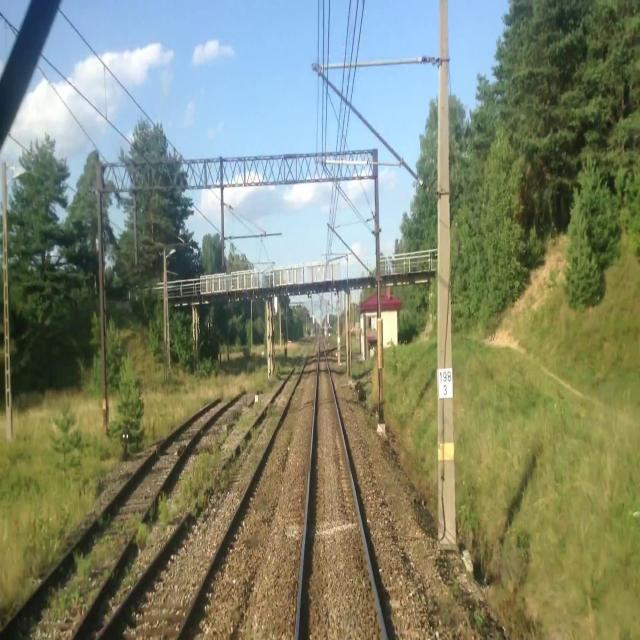rail-track: (100, 349, 309, 639), (0, 395, 230, 639), (299, 354, 383, 639)
